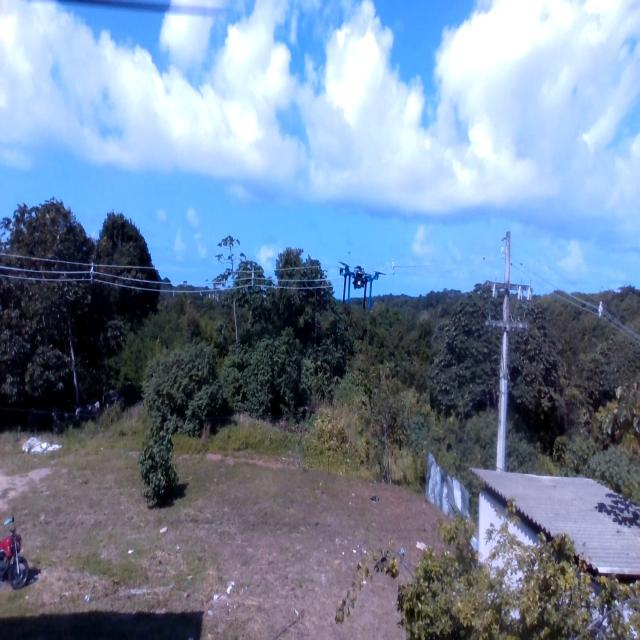-uav-: (332, 247, 389, 323)
